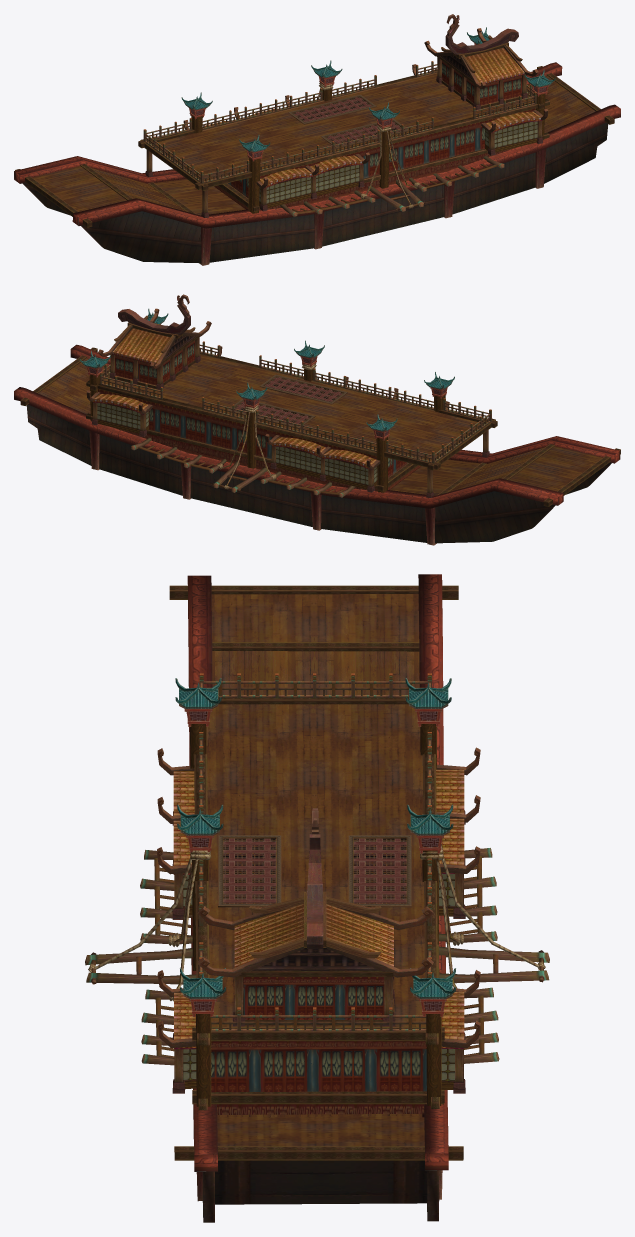
The model's file is environment_Building_bangpai_001_g.FBX.
3 renders of one model, top to bottom at view 1: azimuth 30°, elevation 25°; view 2: azimuth 150°, elevation 25°; view 3: azimuth 270°, elevation 25°, orthographic. The views are drawn at different scales.
Visible parts, largest first — view 1: environment_Building_bangpai_001_g14, environment_Building_bangpai_001_g15, environment_Building_bangpai_001_g16, environment_Building_bangpai_001_g12, environment_Building_bangpai_001_g01, environment_Building_bangpai_001_g13, environment_Building_bangpai_001_g07, environment_Building_bangpai_001_g11, environment_Building_bangpai_001_g06, environment_Building_bangpai_001_g04, environment_Building_bangpai_001_g02, environment_Building_bangpai_001_g08 (+4 smaller); view 2: environment_Building_bangpai_001_g14, environment_Building_bangpai_001_g15, environment_Building_bangpai_001_g16, environment_Building_bangpai_001_g01, environment_Building_bangpai_001_g12, environment_Building_bangpai_001_g13, environment_Building_bangpai_001_g07, environment_Building_bangpai_001_g11, environment_Building_bangpai_001_g06, environment_Building_bangpai_001_g04, environment_Building_bangpai_001_g02, environment_Building_bangpai_001_g08 (+4 smaller); view 3: environment_Building_bangpai_001_g14, environment_Building_bangpai_001_g16, environment_Building_bangpai_001_g01, environment_Building_bangpai_001_g12, environment_Building_bangpai_001_g07, environment_Building_bangpai_001_g15, environment_Building_bangpai_001_g06, environment_Building_bangpai_001_g13, environment_Building_bangpai_001_g08, environment_Building_bangpai_001_g11, environment_Building_bangpai_001_g02, environment_Building_bangpai_001_g05 (+3 smaller).
Part boxes in pixels (bbox=[...]): environment_Building_bangpai_001_g14: bbox=[32, 73, 595, 215]; environment_Building_bangpai_001_g15: bbox=[22, 122, 608, 263]; environment_Building_bangpai_001_g16: bbox=[14, 35, 620, 228]; environment_Building_bangpai_001_g12: bbox=[143, 61, 536, 216]; environment_Building_bangpai_001_g01: bbox=[214, 60, 535, 210]; environment_Building_bangpai_001_g13: bbox=[191, 87, 545, 213]; environment_Building_bangpai_001_g07: bbox=[202, 44, 542, 188]; environment_Building_bangpai_001_g11: bbox=[145, 55, 542, 217]; environment_Building_bangpai_001_g06: bbox=[181, 27, 555, 161]; environment_Building_bangpai_001_g04: bbox=[148, 149, 546, 265]; environment_Building_bangpai_001_g02: bbox=[294, 97, 404, 145]; environment_Building_bangpai_001_g08: bbox=[183, 28, 548, 188]; environment_Building_bangpai_001_g14: bbox=[38, 355, 602, 495]; environment_Building_bangpai_001_g15: bbox=[26, 404, 611, 543]; environment_Building_bangpai_001_g16: bbox=[14, 315, 620, 508]; environment_Building_bangpai_001_g01: bbox=[98, 340, 421, 491]; environment_Building_bangpai_001_g12: bbox=[100, 341, 491, 497]; environment_Building_bangpai_001_g13: bbox=[89, 368, 445, 492]; environment_Building_bangpai_001_g07: bbox=[93, 323, 376, 469]; environment_Building_bangpai_001_g11: bbox=[92, 336, 489, 497]; environment_Building_bangpai_001_g06: bbox=[80, 308, 454, 440]; environment_Building_bangpai_001_g04: bbox=[89, 431, 436, 545]; environment_Building_bangpai_001_g02: bbox=[234, 377, 341, 425]; environment_Building_bangpai_001_g08: bbox=[86, 308, 449, 469]; environment_Building_bangpai_001_g14: bbox=[206, 594, 425, 1146]; environment_Building_bangpai_001_g16: bbox=[169, 574, 463, 1171]; environment_Building_bangpai_001_g01: bbox=[211, 977, 426, 1114]; environment_Building_bangpai_001_g12: bbox=[85, 673, 549, 1065]; environment_Building_bangpai_001_g07: bbox=[173, 769, 464, 1049]; environment_Building_bangpai_001_g15: bbox=[202, 1160, 439, 1222]; environment_Building_bangpai_001_g06: bbox=[175, 678, 455, 1016]; environment_Building_bangpai_001_g13: bbox=[183, 724, 454, 1106]; environment_Building_bangpai_001_g08: bbox=[156, 747, 480, 1048]; environment_Building_bangpai_001_g11: bbox=[172, 810, 465, 1093]; environment_Building_bangpai_001_g02: bbox=[223, 838, 406, 903]; environment_Building_bangpai_001_g05: bbox=[88, 844, 545, 1001].
Bounding box in the file's own units: 9844 × 3649 × 2987.
